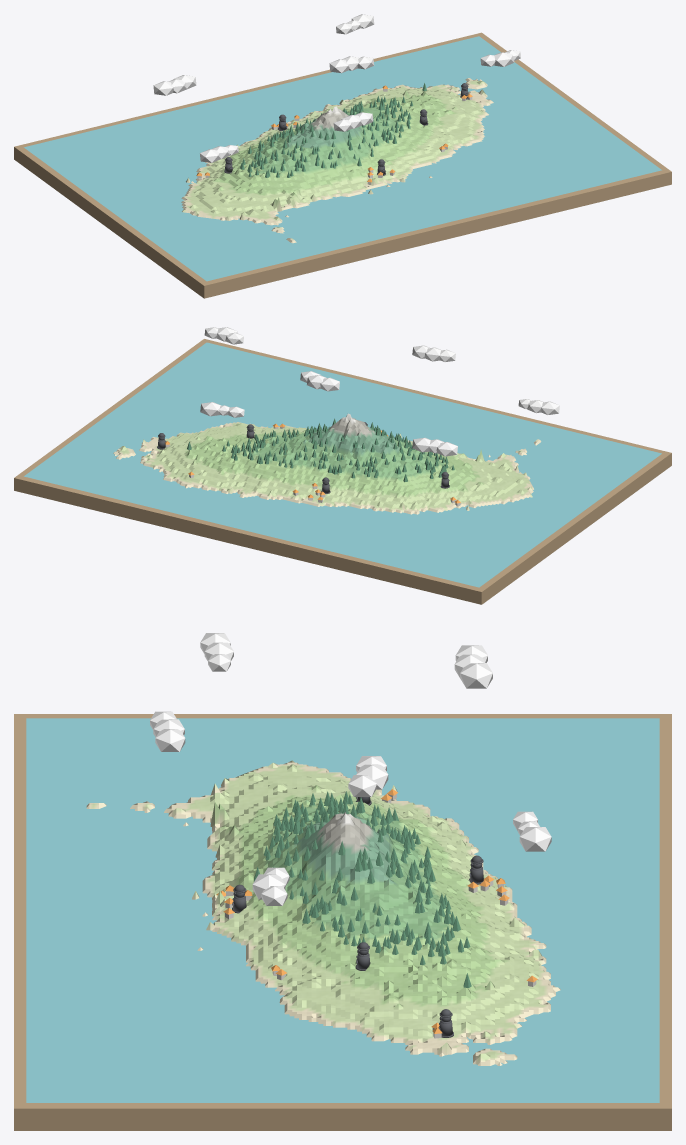
File: fantasy_jeju.glb
3 views of the same model, one above another, from view 1: azimuth 30°, elevation 25°; view 2: azimuth 150°, elevation 25°; view 3: azimuth 270°, elevation 25° (orthographic). The views are drawn at different scales.
Visible parts, largest first — view 1: sea, terrain, base, clouds, trees, statues, houses; view 2: sea, terrain, base, trees, clouds, statues; view 3: sea, terrain, base, trees, clouds, statues, houses.
Boxes of the visible parts, left/top/right/bottom form: sea: left=24, top=36, right=661, bottom=281; terrain: left=181, top=78, right=493, bottom=243; base: left=14, top=32, right=671, bottom=298; clouds: left=153, top=14, right=520, bottom=162; trees: left=240, top=83, right=426, bottom=177; statues: left=224, top=83, right=468, bottom=175; houses: left=197, top=85, right=472, bottom=184; sea: left=24, top=342, right=661, bottom=587; terrain: left=113, top=413, right=541, bottom=514; base: left=14, top=339, right=671, bottom=604; trees: left=187, top=418, right=454, bottom=482; clouds: left=200, top=327, right=559, bottom=456; statues: left=157, top=422, right=449, bottom=493; sea: left=26, top=718, right=659, bottom=1102; terrain: left=86, top=760, right=560, bottom=1065; base: left=14, top=714, right=671, bottom=1130; trees: left=254, top=791, right=471, bottom=987; clouds: left=150, top=633, right=551, bottom=905; statues: left=232, top=797, right=484, bottom=1037; houses: left=216, top=789, right=537, bottom=1038.
Bounding box in the file's own units: 11.5 × 2.47 × 8.1.
